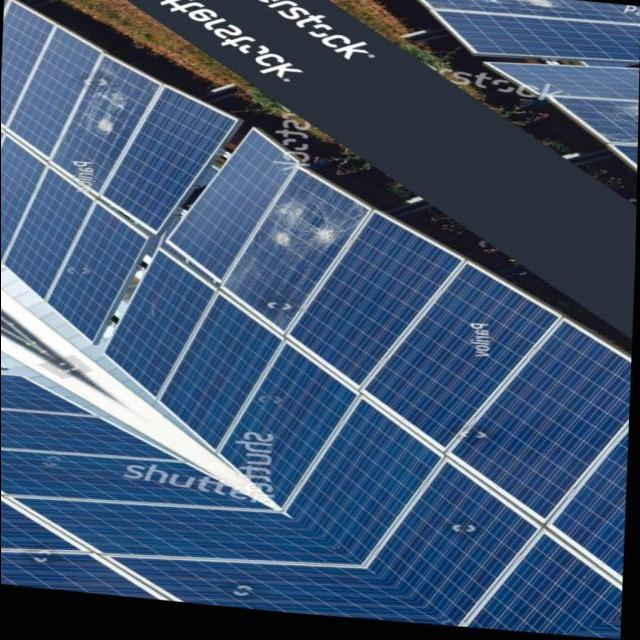cracked: (220, 154, 366, 333), (50, 43, 157, 198), (562, 92, 638, 152), (430, 1, 640, 17)
